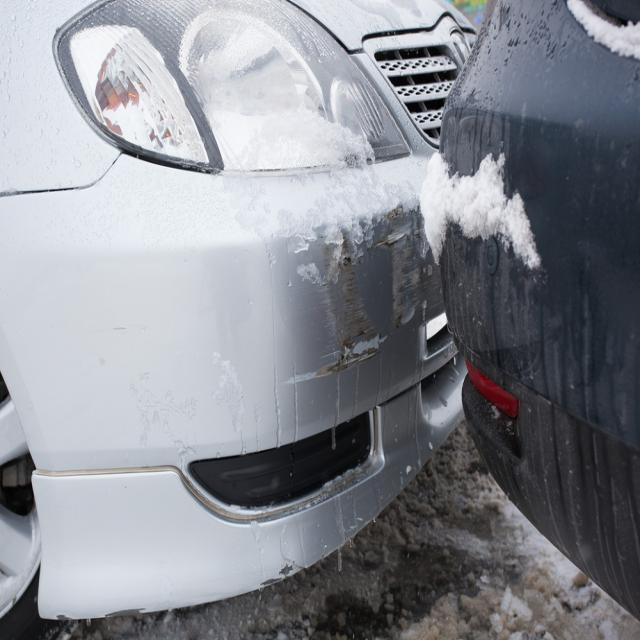scratch: (292, 206, 425, 392)
